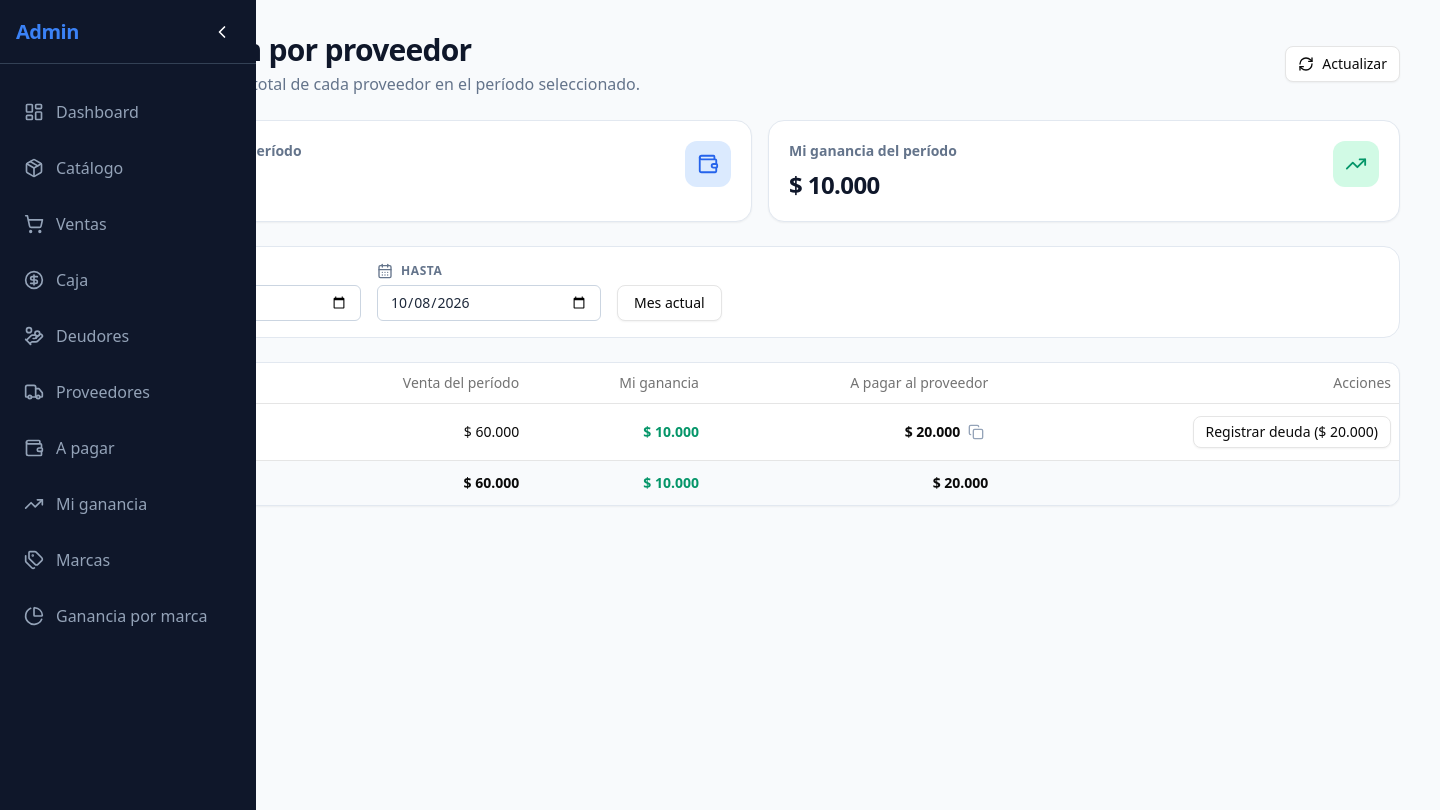
Test: SupplierProfitPage › el botón muestra el monto a registrar y abre el modal con ese incremental
What coordinates should you click on to do the following:
click the button "Registrar deuda ($ 20.000)"
I would click on:
 (1292, 432)
Its box is [1192,416,1391,448].
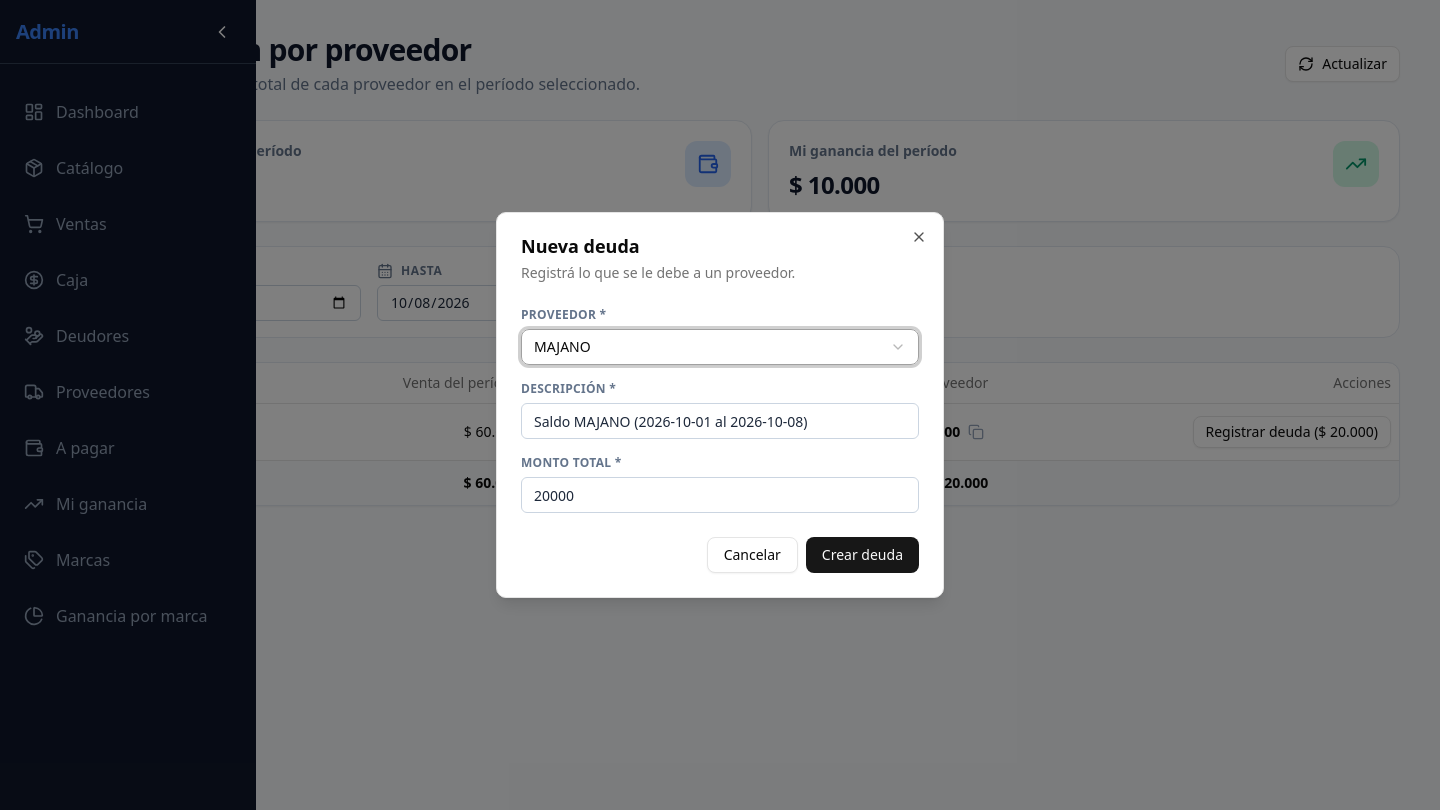
Expected: the heading "Nueva deuda" is shown, [521,234,640,258]
Expected: the number field with placeholder "Ej: 50000" holds "20000", [521,477,919,513]
